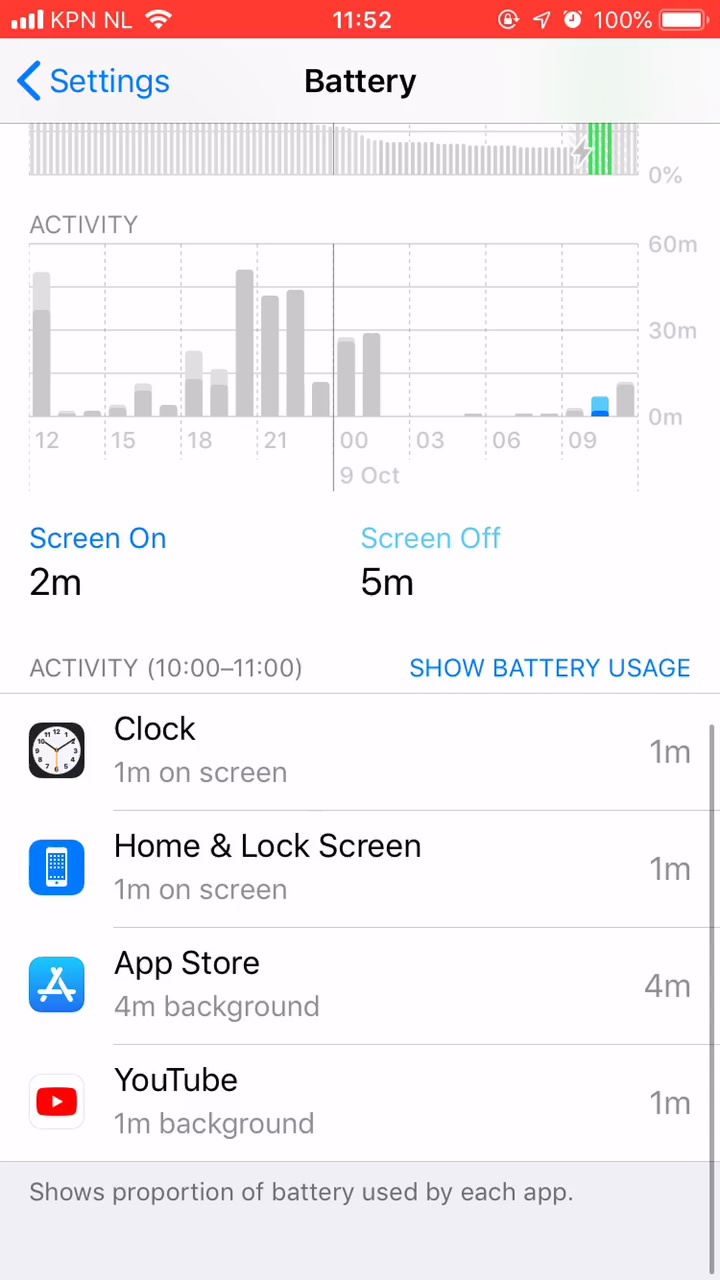activity: (24, 636, 340, 687)
app: (20, 826, 699, 906), (27, 942, 706, 1022), (28, 1056, 707, 1136)
